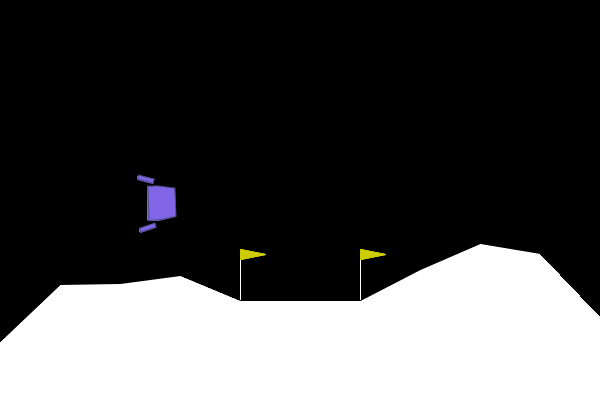lander: (136, 173, 178, 234)
